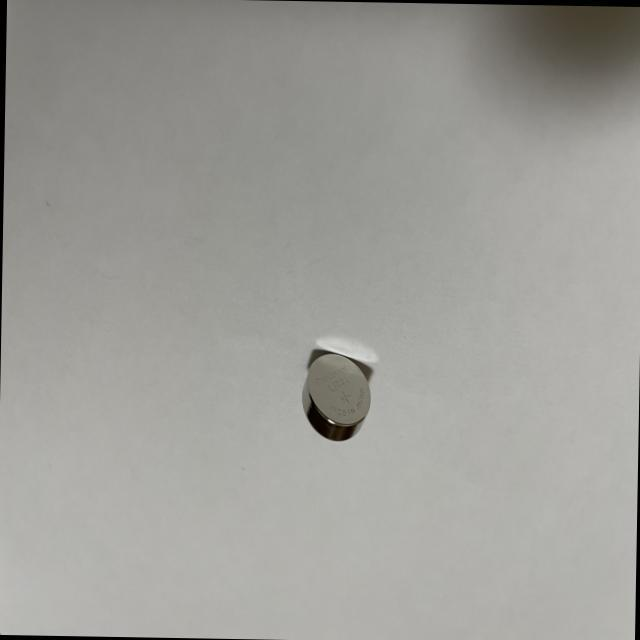COIN: (298, 348, 370, 441)
